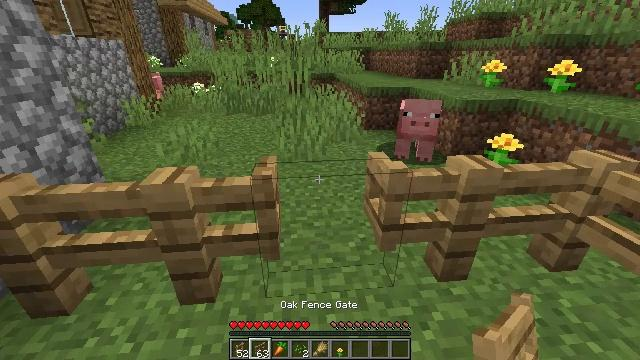pig: (396, 100, 441, 163)
